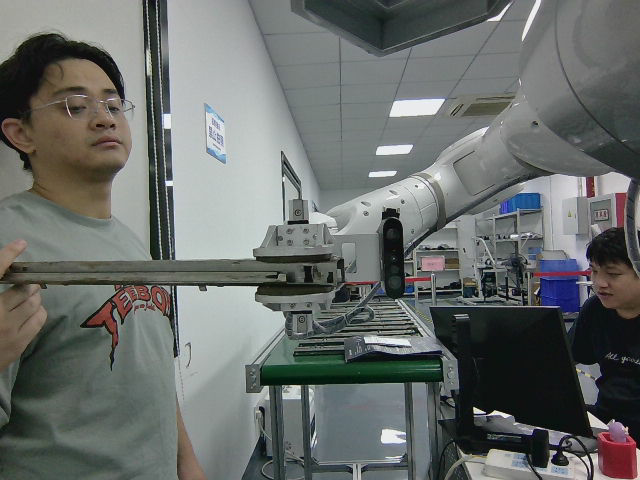down: (5, 255, 347, 293)
